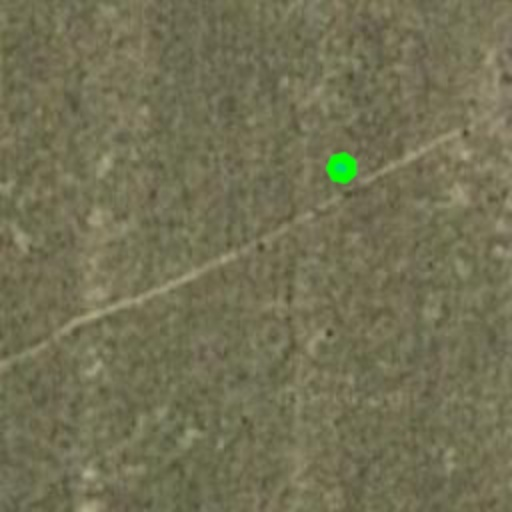heptagon: (320, 146, 364, 190)
